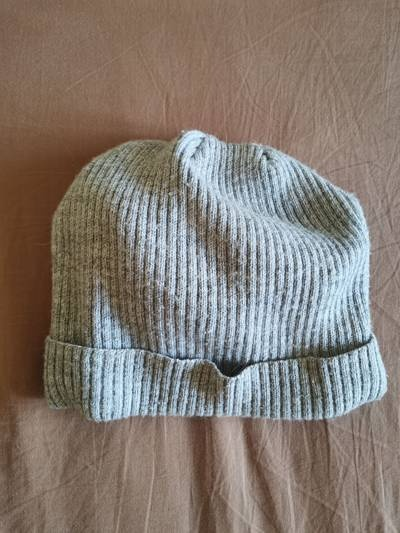Hat: (39, 133, 394, 427)
